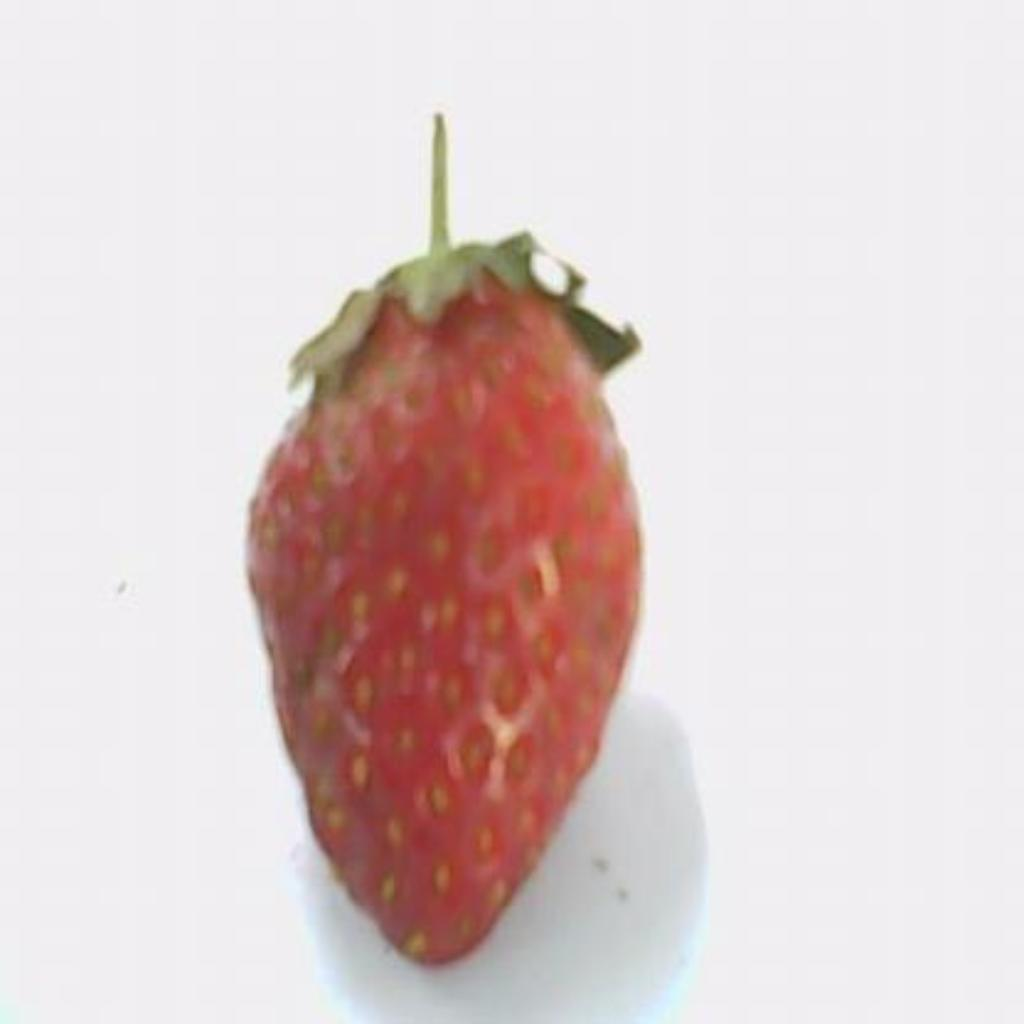strawberry: (248, 116, 640, 963)
